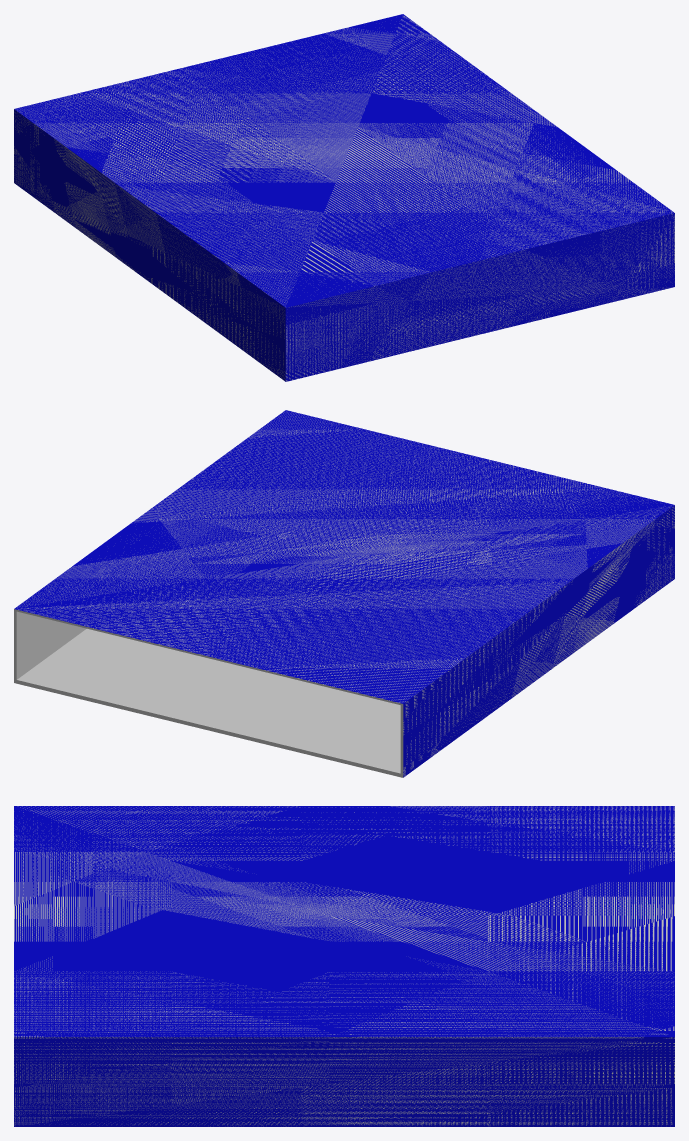
Rendered from original-6.obj.
The picture shows the model from 3 angles, top to bottom: view 1: azimuth 30°, elevation 25°; view 2: azimuth 150°, elevation 25°; view 3: azimuth 270°, elevation 25°; orthographic projection. The views are drawn at different scales.
Visible parts, largest first — view 1: mesh5/mesh5-geometry#mesh5-geometry; view 2: mesh5/mesh5-geometry#mesh5-geometry; view 3: mesh5/mesh5-geometry#mesh5-geometry.
Boxes of the visible parts, bbox=[...] form: mesh5/mesh5-geometry#mesh5-geometry: bbox=[14, 14, 674, 381]; mesh5/mesh5-geometry#mesh5-geometry: bbox=[14, 410, 674, 777]; mesh5/mesh5-geometry#mesh5-geometry: bbox=[14, 806, 674, 1126].
Bounding box in the file's own units: 0.4475 × 0.0814 × 0.5414.
